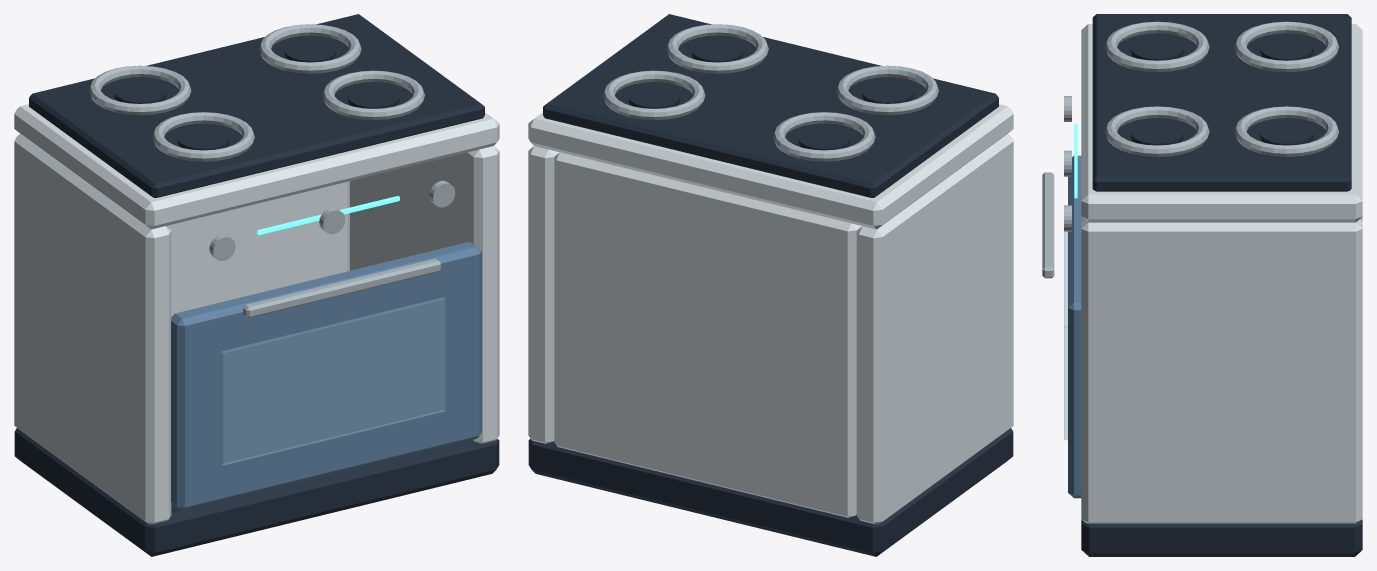
Rendered from restaurant_01.glb.
3 renders of one model, left to right at view 1: azimuth 30°, elevation 25°; view 2: azimuth 150°, elevation 25°; view 3: azimuth 270°, elevation 25°, orthographic. The views are drawn at different scales.
Visible parts, largest first — view 1: Side (×2), OvenDoor, StovePlate, OvenWindow, Base, Top, Back, Burner (×4), BurnerCenter (×4), Handle, StatusLight; view 2: Back, Side (×2), StovePlate, Base, Top, Burner (×4), BurnerCenter (×4); view 3: Side, StovePlate, Top, Burner (×4), Base, OvenDoor, BurnerCenter (×4), Handle, OvenWindow.
Boxes of the visible parts, x1,y1,x2,y2 form: Side (×2): (14,134,499,524); OvenDoor: (171,241,481,510); StovePlate: (29,14,484,197); OvenWindow: (221,297,445,465); Base: (14,428,499,556); Top: (14,104,499,229); Back: (166,181,349,317); Burner (×4): (89,24,424,161); BurnerCenter (×4): (114,39,399,150); Handle: (243,258,441,318); StatusLight: (257,196,399,235); Back: (554,152,861,517); Side (×2): (528,134,1013,524); StovePlate: (543,14,998,197); Base: (528,428,1013,556); Top: (528,104,1013,229); Burner (×4): (603,24,938,161); BurnerCenter (×4): (628,39,913,150); Side: (1081,219,1362,523); StovePlate: (1092,14,1351,191); Top: (1081,24,1362,222); Burner (×4): (1105,21,1338,156); Base: (1081,519,1362,556); OvenDoor: (1068,155,1083,498); BurnerCenter (×4): (1131,36,1313,145); Handle: (1042,172,1054,278); OvenWindow: (1064,231,1067,440).
Size of the model in its own units: 0.95 by 0.974 by 0.729.
